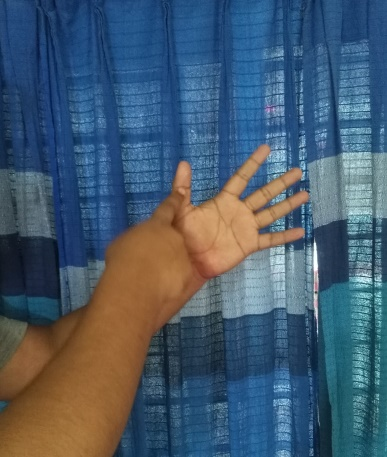a: (141, 144, 308, 287)
